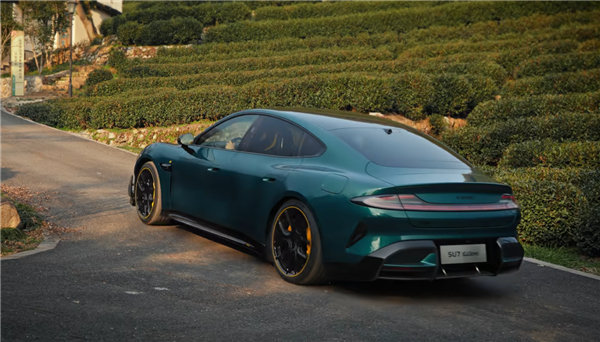su7: (128, 106, 528, 296)
